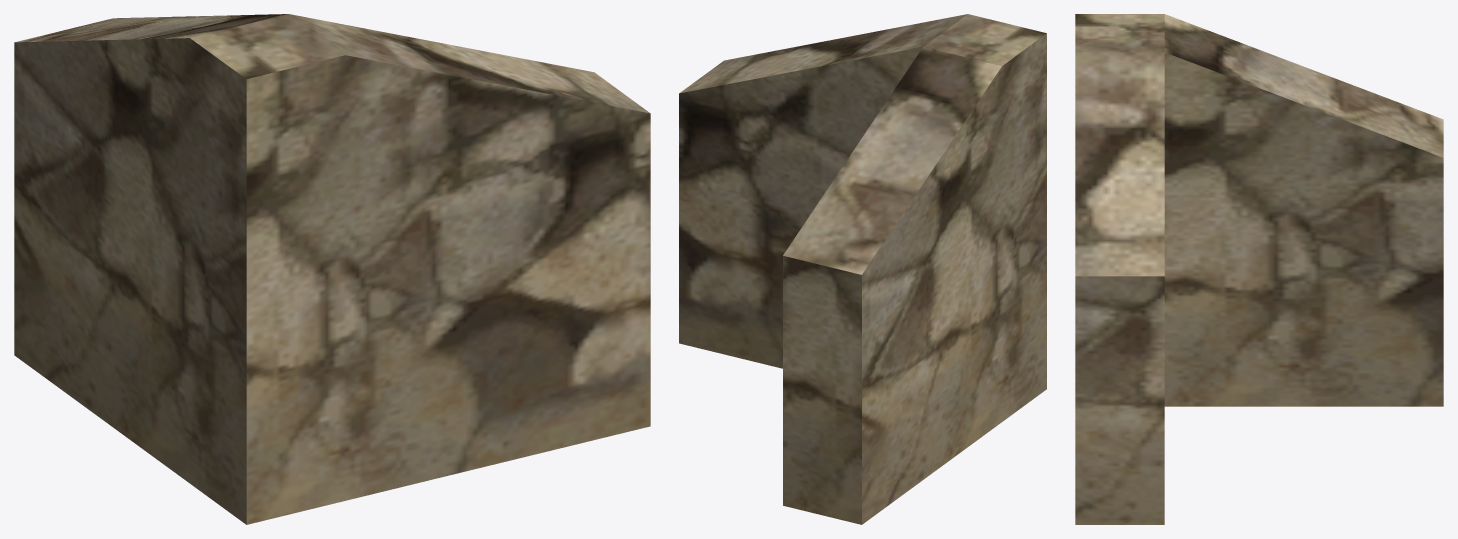
The model's file is Environment - Prop - Stone Wall 01 - PMWallStn6_CD.glb.
3 renders of one model, left to right at view 1: azimuth 30°, elevation 25°; view 2: azimuth 150°, elevation 25°; view 3: azimuth 270°, elevation 25°, orthographic. The views are drawn at different scales.
Visible parts, largest first — view 1: PMWALLSTN6_CD; view 2: PMWALLSTN6_CD; view 3: PMWALLSTN6_CD.
Part boxes in pixels (<box>): PMWALLSTN6_CD: <box>14,14,650,524</box>; PMWALLSTN6_CD: <box>679,14,1046,524</box>; PMWALLSTN6_CD: <box>1075,14,1443,524</box>.
Bounding box in the file's own units: 8.85 × 9.32 × 8.79.
Materials: 1 (1 with a texture image).
